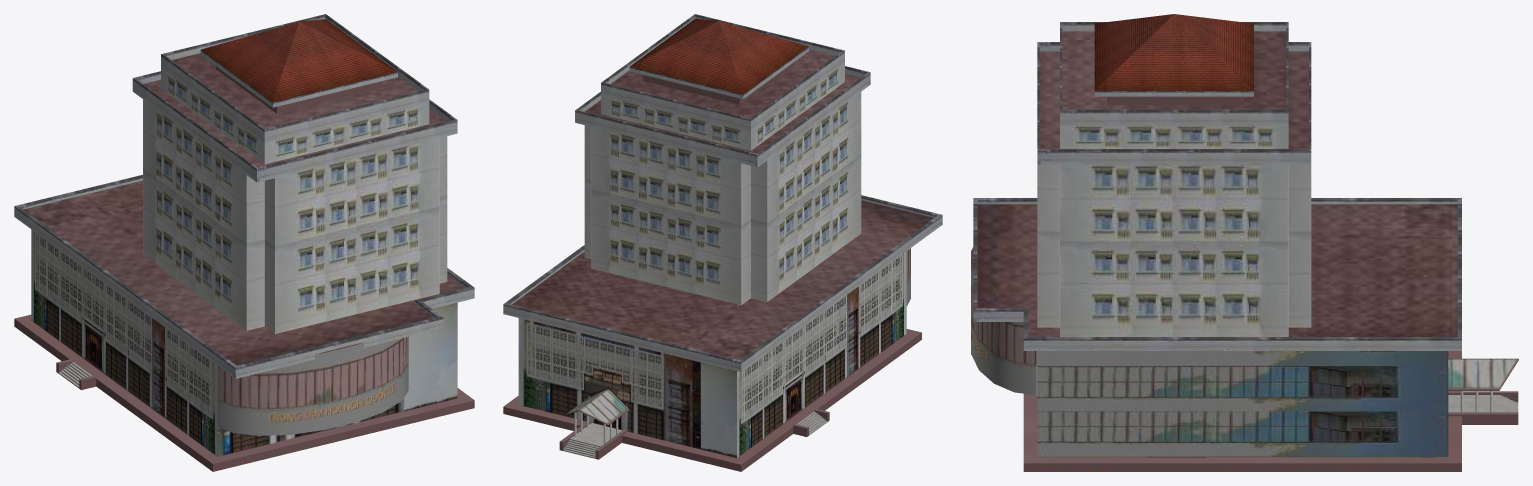
The picture shows the model from 3 angles, left to right: view 1: azimuth 30°, elevation 25°; view 2: azimuth 150°, elevation 25°; view 3: azimuth 270°, elevation 25°; orthographic projection. The views are drawn at different scales.
Parts seen in each view (by area): view 1: HN1059_TrungTamHoiNghiQuocTe; view 2: HN1059_TrungTamHoiNghiQuocTe; view 3: HN1059_TrungTamHoiNghiQuocTe.
Boxes of the visible parts, x1,y1,x2,y2 form: HN1059_TrungTamHoiNghiQuocTe: (14, 14, 474, 471); HN1059_TrungTamHoiNghiQuocTe: (503, 14, 942, 471); HN1059_TrungTamHoiNghiQuocTe: (971, 14, 1518, 471).
Size of the model in its own units: 38.6 by 48.34 by 59.97.
1 material, 1 textured.
